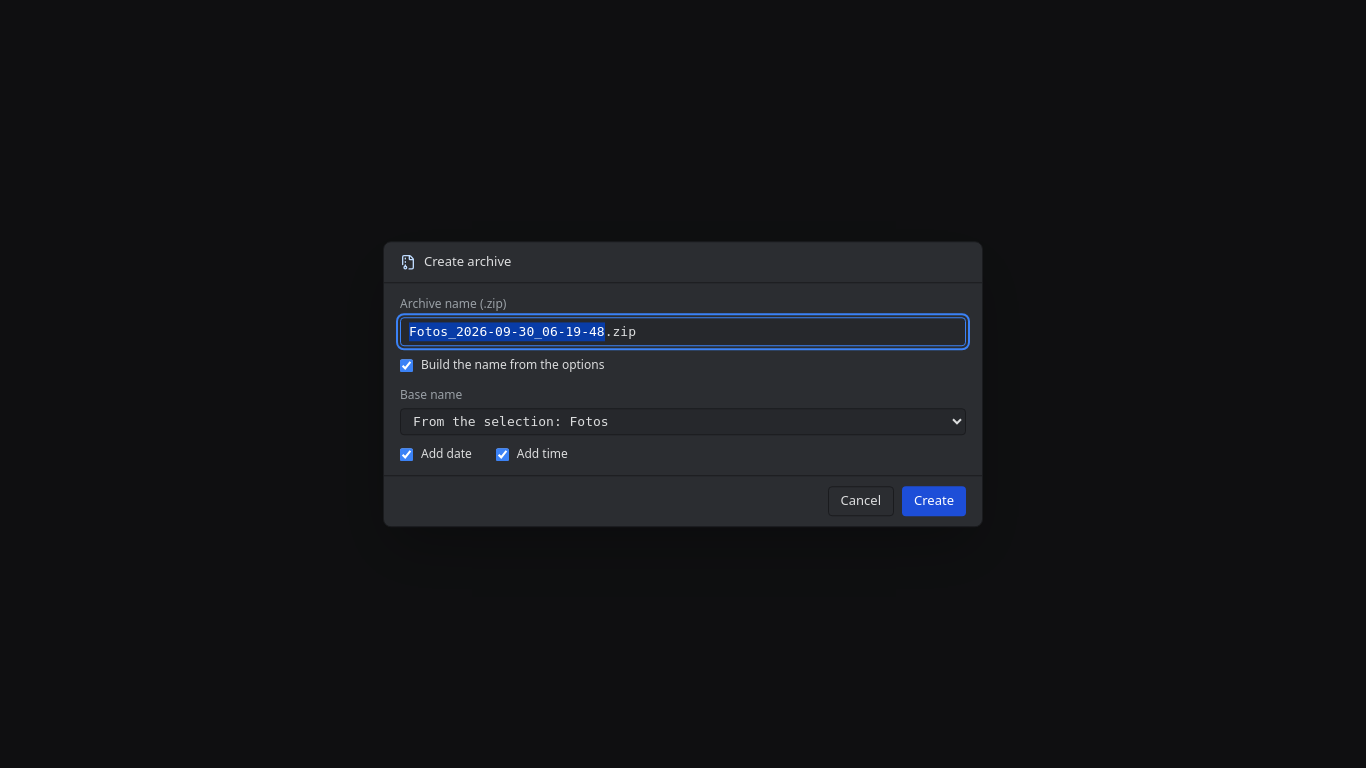
Test: disables the options once the name is typed and hands them back on request
Expected: the checkbox labelled "Build the name from the options" is checked, left=400, top=359, right=413, bottom=372
Clear the field labelled "Archive name (.zip)" at (683, 332), box left=400, top=317, right=966, bottom=346
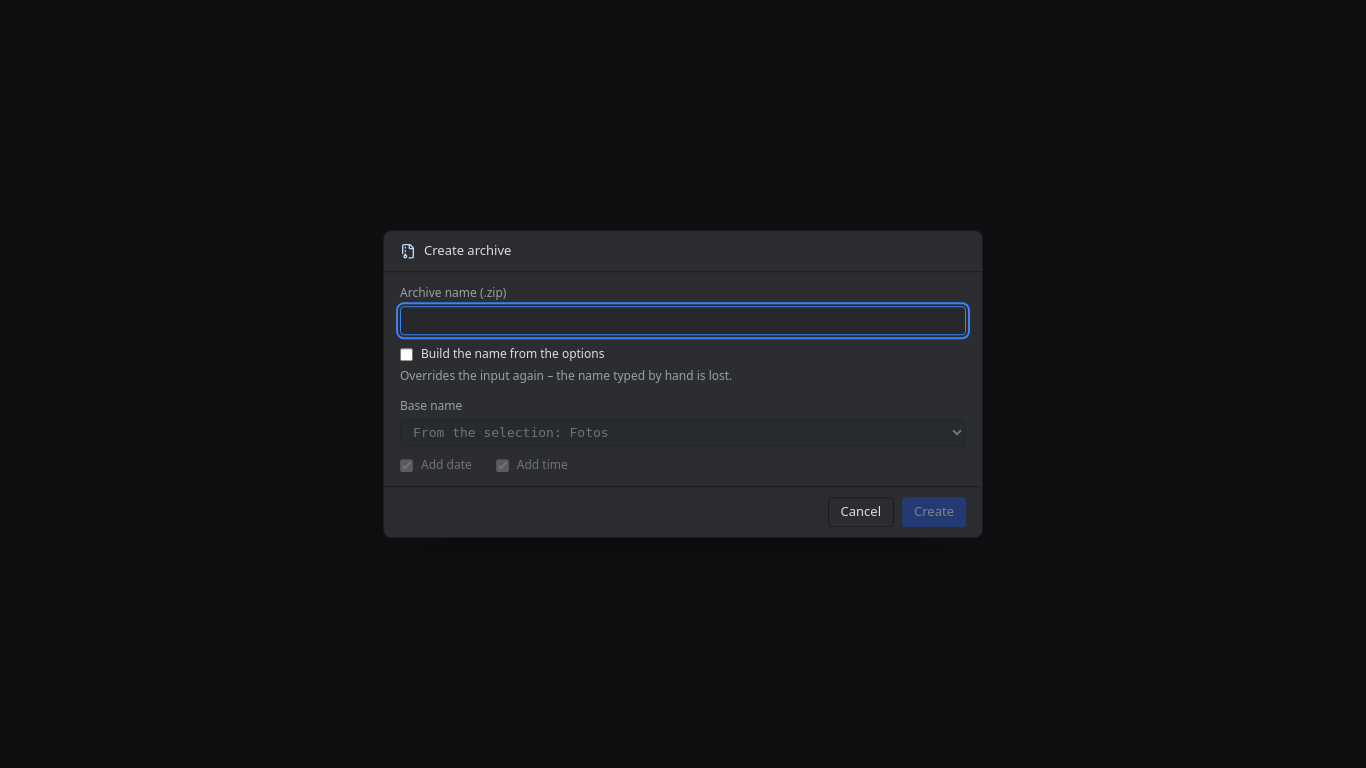
Type "Urlaub" into the field labelled "Archive name (.zip)" at (683, 321), box left=400, top=306, right=966, bottom=335
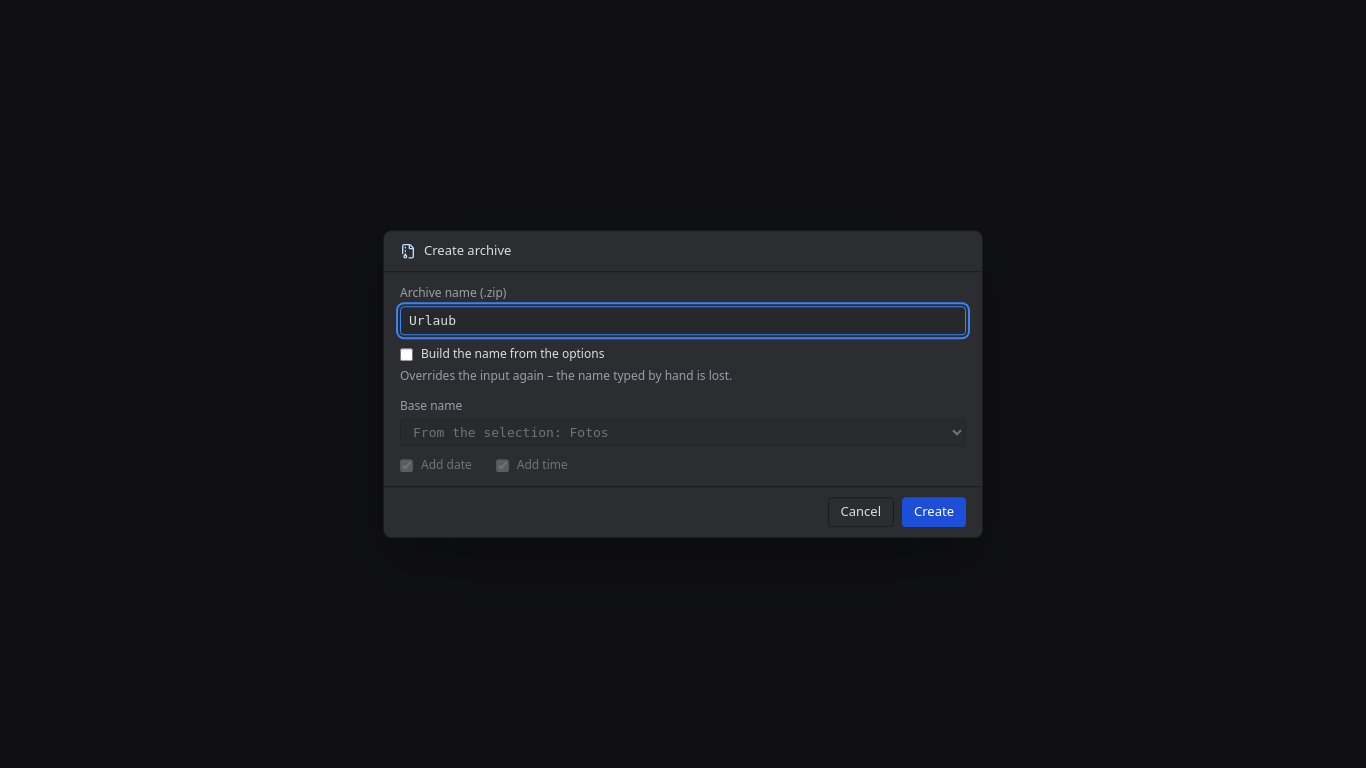
Expected: the checkbox labelled "Build the name from the options" is not checked
Expected: the checkbox labelled "Add date" is disabled, left=400, top=459, right=413, bottom=472
Expected: the dropdown labelled "Base name" is disabled, left=400, top=419, right=966, bottom=446
Click the checkbox labelled "Build the name from the options" at (406, 354), box left=400, top=348, right=413, bottom=361
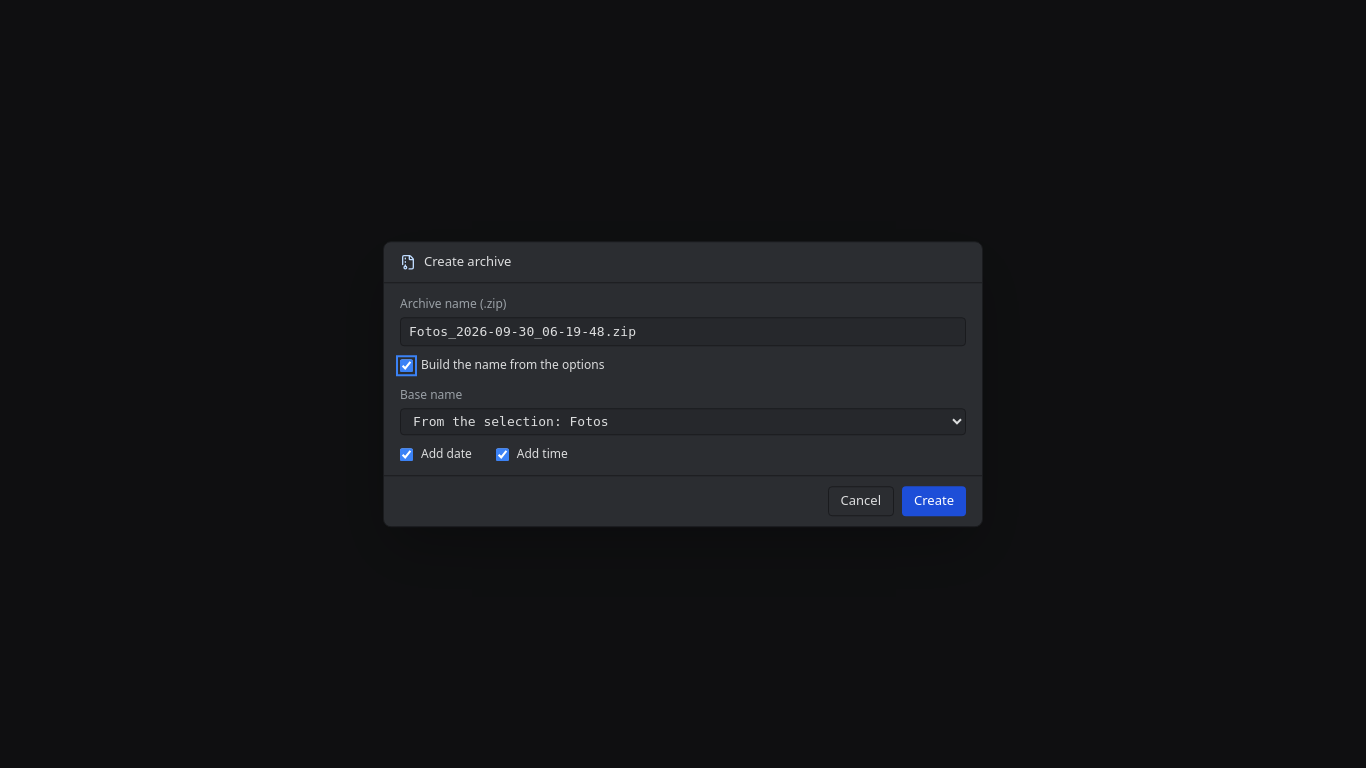
Expected: the checkbox labelled "Add date" is enabled, left=400, top=448, right=413, bottom=461
